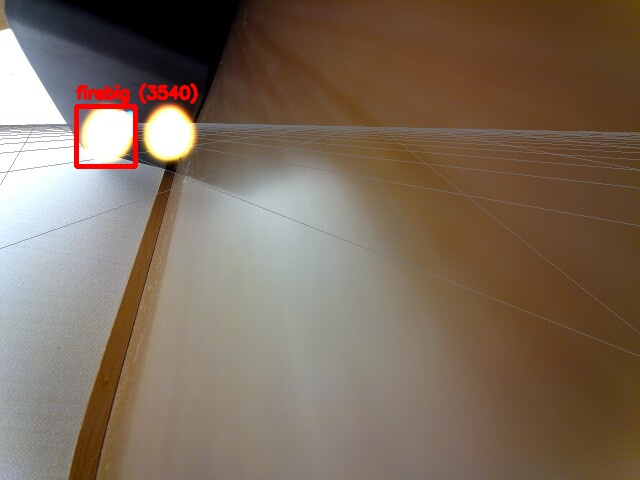firebig: (76, 106, 135, 166)
